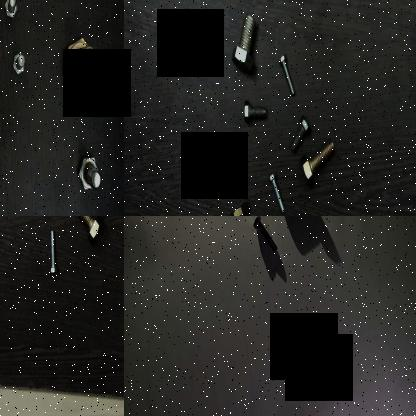Bolts: (62, 28, 100, 95), (298, 136, 338, 190), (232, 16, 258, 80), (74, 148, 104, 202), (284, 112, 314, 154), (68, 216, 105, 249), (277, 48, 299, 102), (252, 216, 280, 258), (239, 97, 272, 129), (267, 171, 285, 216), (46, 223, 60, 279), (227, 197, 259, 216), (10, 45, 29, 76), (1, 0, 19, 27)
